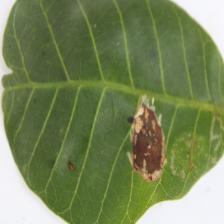leaf miner: (0, 0, 224, 224), (126, 97, 167, 182)
